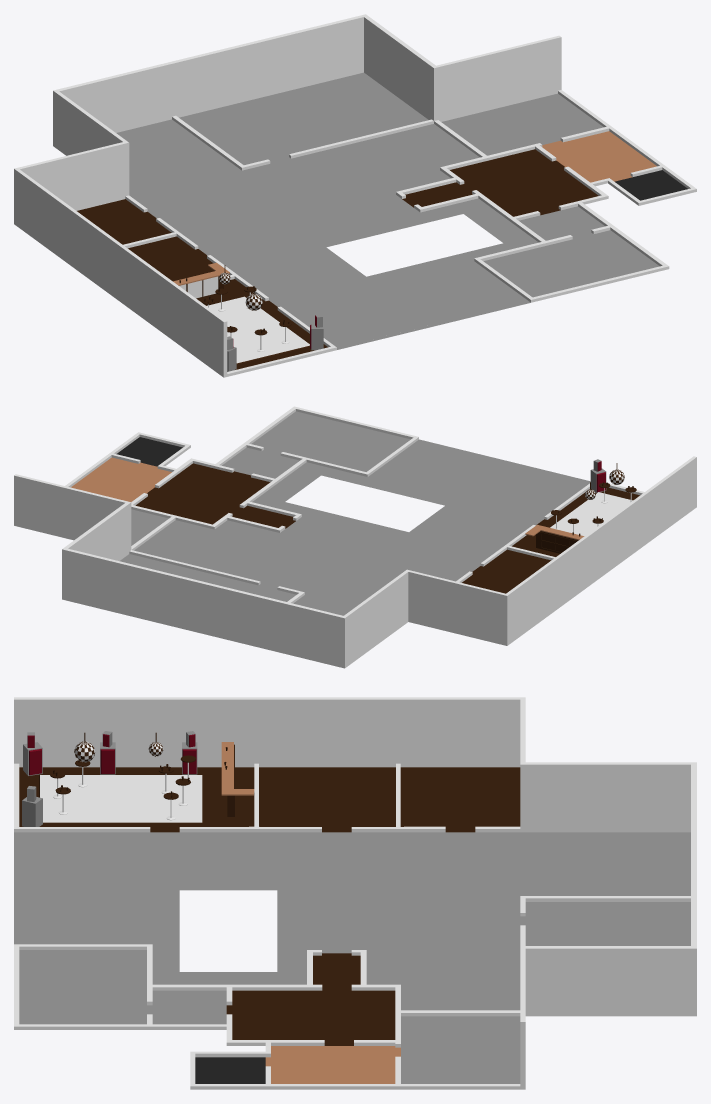
File: Salle_011_b.FBX
3 renders of one model, top to bottom at view 1: azimuth 30°, elevation 25°; view 2: azimuth 150°, elevation 25°; view 3: azimuth 270°, elevation 25°, orthographic. The views are drawn at different scales.
Visible parts, largest first — view 1: Piece_011, Disco_Sol, Box001; view 2: Piece_011, Disco_Sol, Box001; view 3: Piece_011, Disco_Sol, Box001.
Part boxes in pixels (x1,y1,x2,y2): Piece_011: (14,14,696,377); Disco_Sol: (207,296,309,364); Box001: (173,262,229,298); Piece_011: (14,406,696,668); Disco_Sol: (550,492,632,535); Box001: (525,524,584,553); Piece_011: (14,697,696,1089); Disco_Sol: (39,775,203,823); Box001: (221,742,254,816).
Bounding box in the file's own units: 3085 × 300 × 2744.
